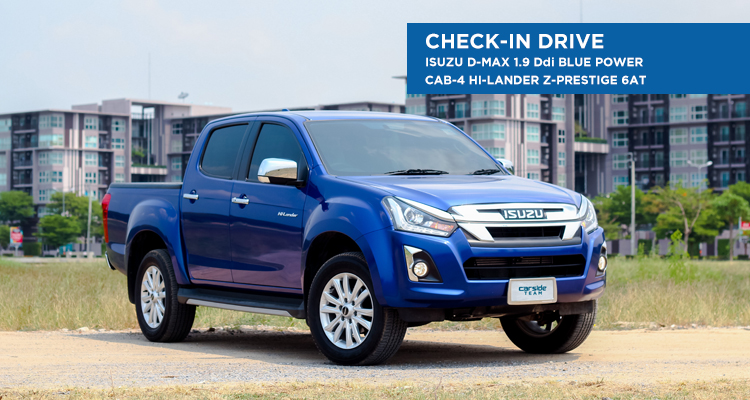pickup: (100, 107, 606, 371)
